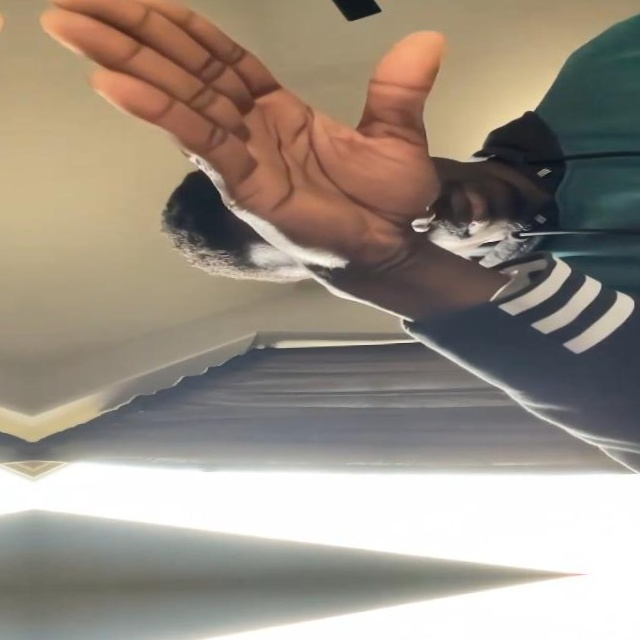Paper: (0, 0, 9, 284)
